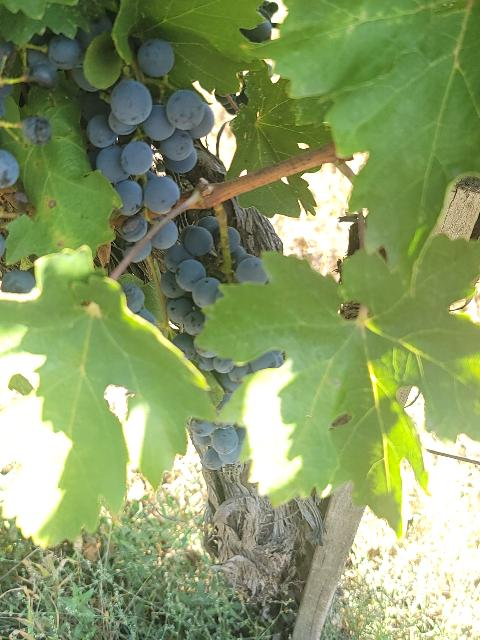grapes: (160, 218, 284, 410)
